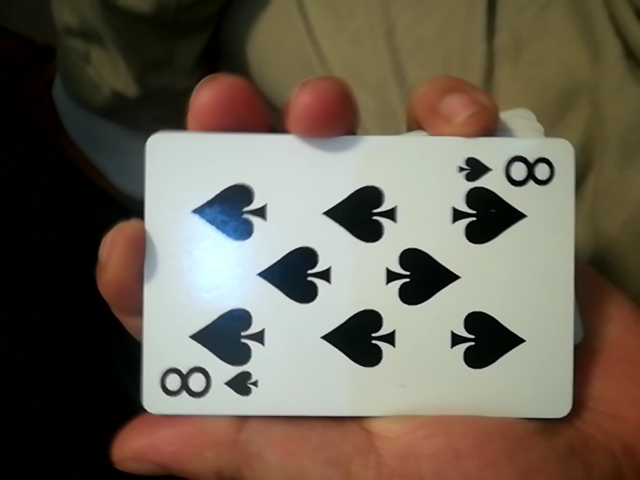ht 8: (127, 125, 557, 433)
